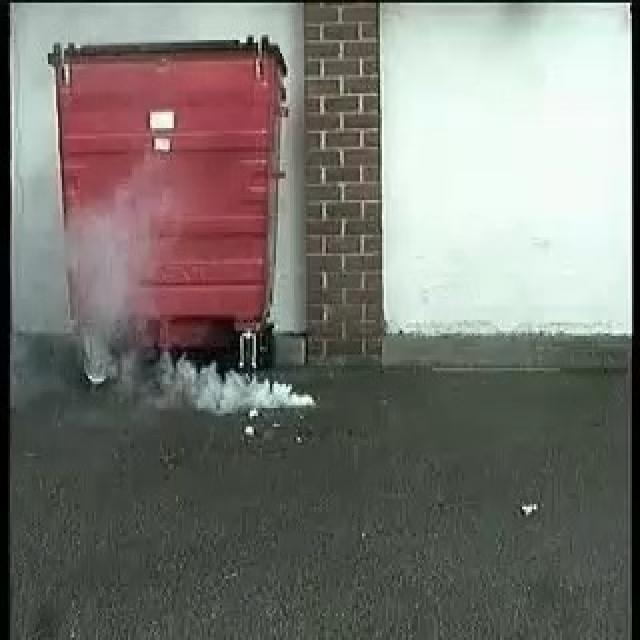smoke: (132, 340, 312, 413)
